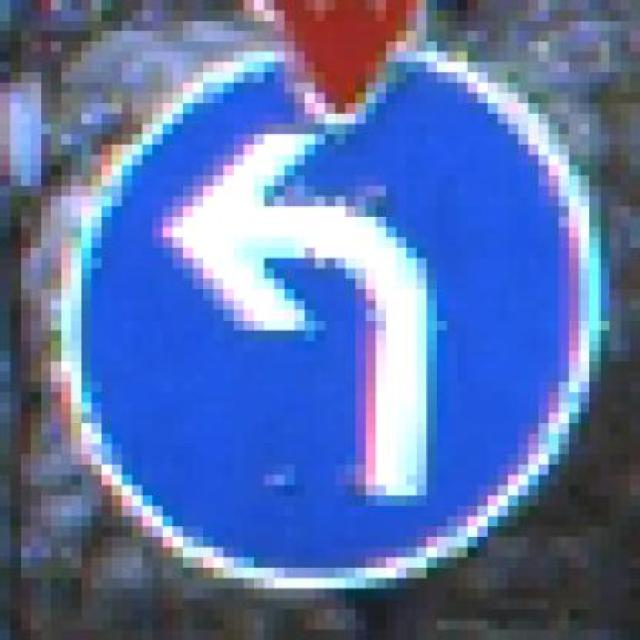Turn left ahead: (41, 51, 610, 609)
